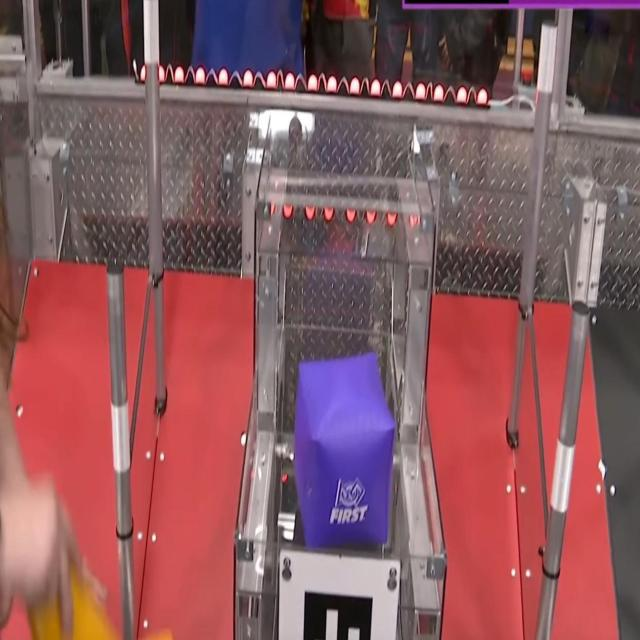frc_cone: (31, 516, 172, 640)
frc_cube: (296, 350, 399, 550)
